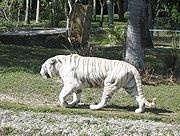tigre: (39, 53, 155, 113)
